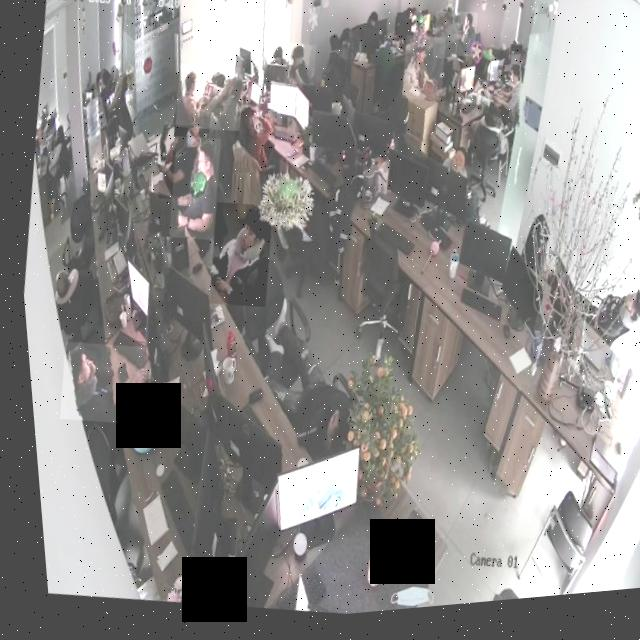person: (48, 337, 147, 432), (198, 202, 276, 315), (159, 136, 225, 247), (169, 63, 247, 140), (225, 104, 280, 182), (150, 124, 201, 207), (396, 40, 448, 112), (484, 70, 530, 142), (213, 66, 252, 135), (280, 46, 318, 93), (429, 18, 462, 70), (451, 18, 480, 67)
